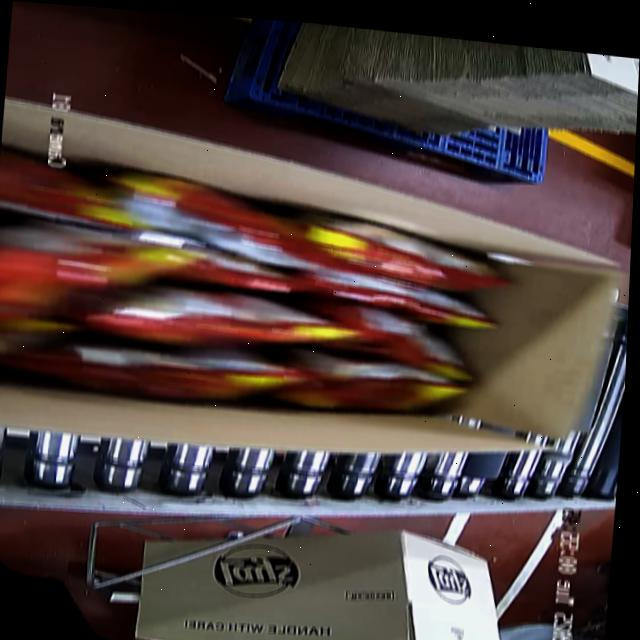MASALA: (0, 147, 517, 439)
